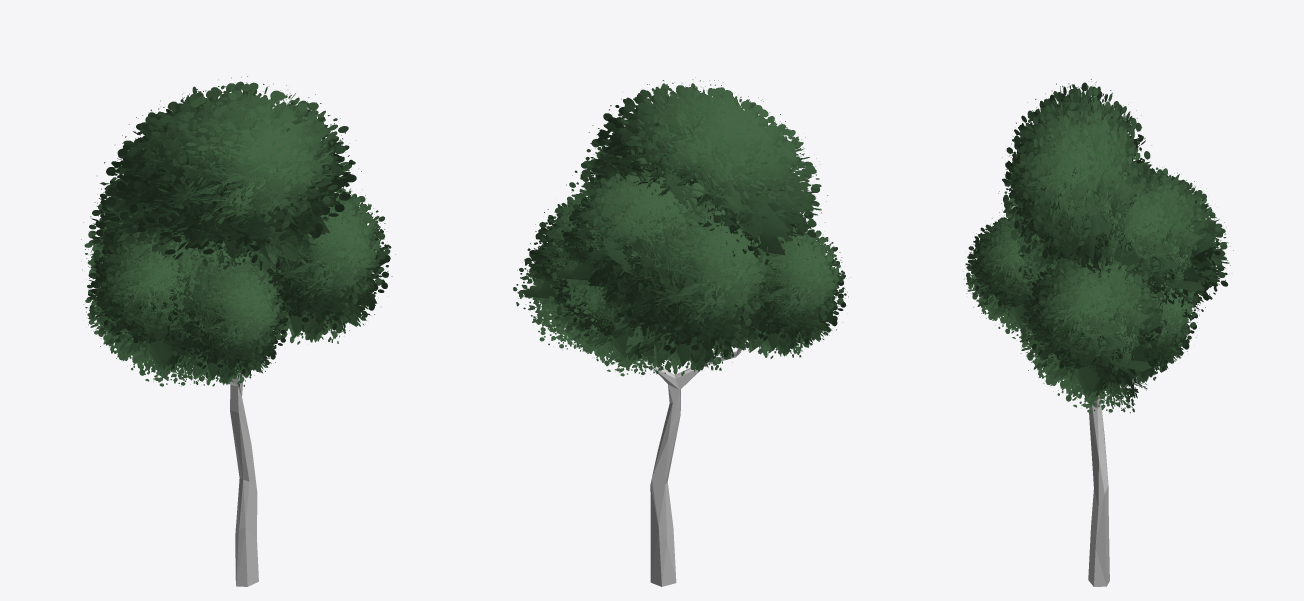
The model's file is birchaleavsfbx.fbx.
3 views of the same model, side by side, from view 1: azimuth 30°, elevation 25°; view 2: azimuth 150°, elevation 25°; view 3: azimuth 270°, elevation 25° (orthographic). The views are drawn at different scales.
Parts seen in each view (by area): view 1: Plane.002, Circle; view 2: Plane.002, Circle; view 3: Plane.002, Circle.
Boxes of the visible parts, <box> form: Plane.002: <box>81,76,395,386</box>; Circle: <box>229,370,258,586</box>; Plane.002: <box>513,77,848,376</box>; Circle: <box>646,348,741,586</box>; Plane.002: <box>964,79,1233,413</box>; Circle: <box>1088,395,1109,586</box>.
Size of the model in its own units: 2650 by 3512 by 2208.
